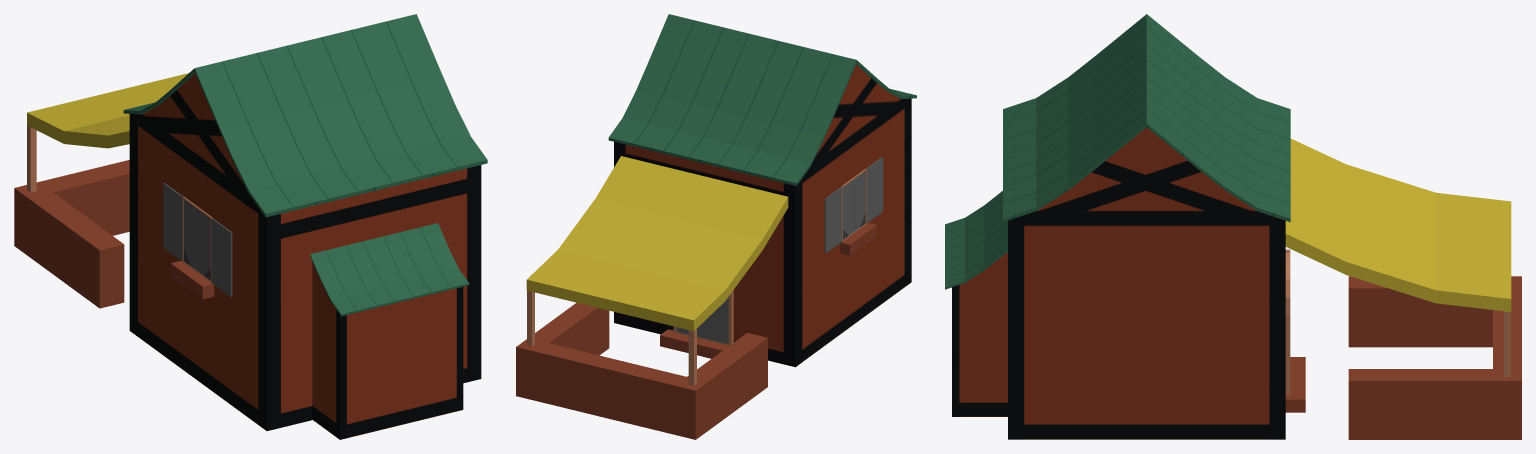
The model's file is Sulimo_Small_Shop_1.fbx.
The picture shows the model from 3 angles, left to right: view 1: azimuth 30°, elevation 25°; view 2: azimuth 150°, elevation 25°; view 3: azimuth 270°, elevation 25°; orthographic projection. The views are drawn at different scales.
Visible parts, largest first — view 1: maison.002, Toit.003, small building, presentoir, Toit.001, Tenture, Fenetre.004, volet gauche.009, volet gauche.008, rebord fenetre.004, perche 2; view 2: maison.002, Tenture, Toit.003, presentoir, Fenetre.004, volet gauche.008, volet gauche.009, small door.003, marche.002, rebord fenetre.004, perche 2, perche (+1 smaller); view 3: maison.002, Toit.003, Tenture, presentoir, small building, Toit.001, marche.002, new small Door Frame.003.
Part boxes in pixels (<box>): maison.002: <box>129,73,481,430</box>; Toit.003: <box>123,14,487,217</box>; small building: <box>312,262,463,439</box>; presentoir: <box>14,160,129,308</box>; Toit.001: <box>310,223,469,316</box>; Tenture: <box>27,73,188,148</box>; Fenetre.004: <box>184,199,210,280</box>; volet gauche.009: <box>211,218,232,297</box>; volet gauche.008: <box>163,183,182,261</box>; rebord fenetre.004: <box>170,261,214,299</box>; perche 2: <box>27,125,36,192</box>; maison.002: <box>614,64,911,367</box>; Tenture: <box>526,156,788,331</box>; Toit.003: <box>608,14,916,186</box>; presentoir: <box>516,302,767,439</box>; Fenetre.004: <box>843,171,865,239</box>; volet gauche.008: <box>824,187,842,253</box>; volet gauche.009: <box>866,157,883,223</box>; small door.003: <box>676,297,728,344</box>; marche.002: <box>660,329,728,358</box>; rebord fenetre.004: <box>840,223,876,255</box>; perche 2: <box>688,329,696,385</box>; perche: <box>527,290,534,346</box>; maison.002: <box>1008,127,1285,439</box>; Toit.003: <box>1003,14,1290,222</box>; Tenture: <box>1285,138,1511,311</box>; presentoir: <box>1348,276,1521,439</box>; small building: <box>952,252,1007,416</box>; Toit.001: <box>945,191,1007,289</box>; marche.002: <box>1285,357,1305,412</box>; new small Door Frame.003: <box>1285,249,1290,395</box>.
Bounding box in the file's own units: 373 × 493 × 800.
